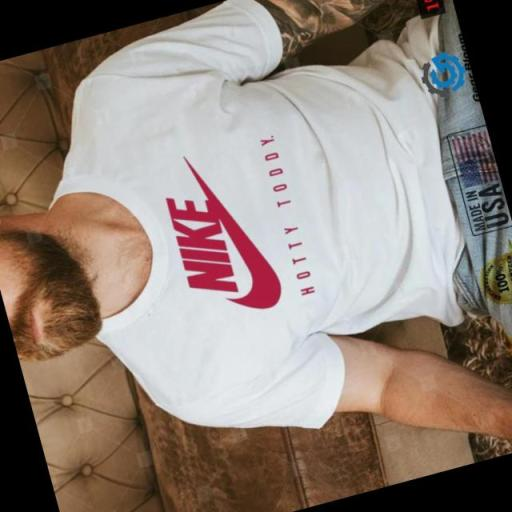Nike: (210, 184, 288, 316), (163, 183, 241, 301)
